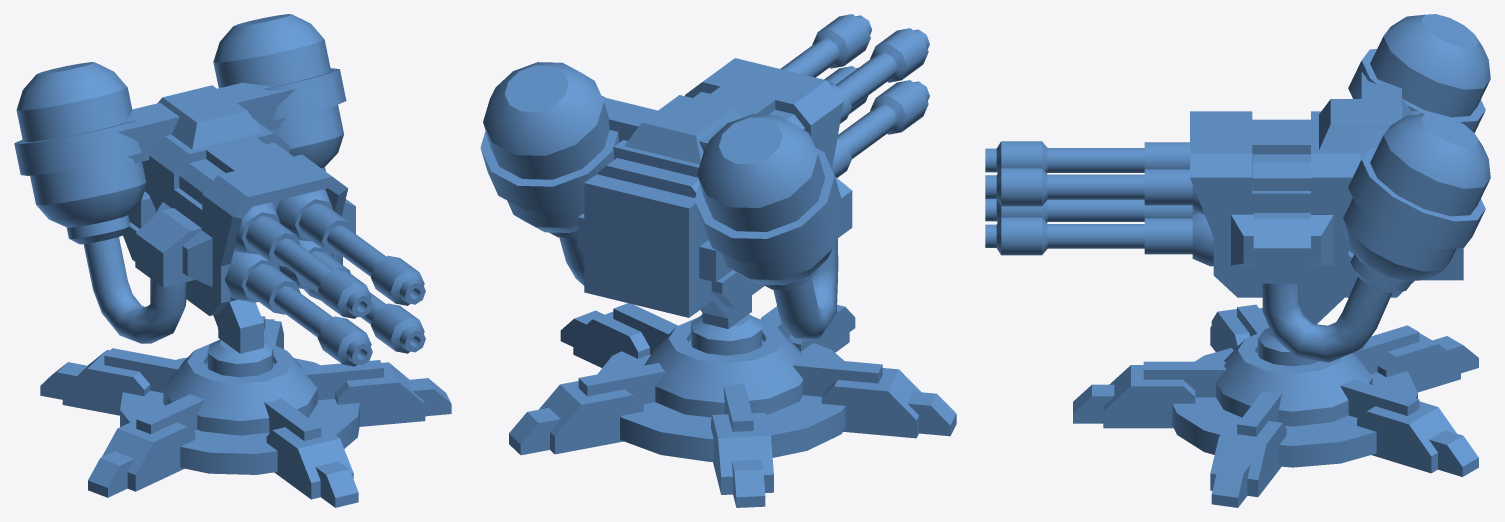
File: auto_turret_machine_gun_level_3.fbx
The picture shows the model from 3 angles, left to right: view 1: azimuth 30°, elevation 25°; view 2: azimuth 150°, elevation 25°; view 3: azimuth 270°, elevation 25°; orthographic projection. The views are drawn at different scales.
Parts seen in each view (by area): view 1: main_part, base, pivoting_arm, cannon_1, cannon_3, cannon_2, cannon_4, breech; view 2: main_part, base, cannon_1, cannon_3, pivoting_arm, cannon_2; view 3: main_part, base, cannon_2, cannon_4, cannon_1, cannon_3, breech, pivoting_arm.
Boxes of the visible parts, left/top/right/bottom form: main_part: left=14, top=14, right=355, bottom=343; base: left=40, top=316, right=451, bottom=507; pivoting_arm: left=207, top=300, right=273, bottom=377; cannon_1: left=274, top=238, right=372, bottom=318; cannon_3: left=274, top=286, right=372, bottom=366; cannon_2: left=327, top=225, right=425, bottom=305; cannon_4: left=361, top=292, right=425, bottom=353; breech: left=179, top=142, right=293, bottom=204; main_part: left=480, top=58, right=852, bottom=340; base: left=509, top=303, right=956, bottom=507; cannon_1: left=835, top=28, right=929, bottom=106; cannon_3: left=837, top=80, right=929, bottom=158; pivoting_arm: left=691, top=295, right=762, bottom=355; cannon_2: left=780, top=14, right=871, bottom=77; main_part: left=1144, top=14, right=1490, bottom=362; base: left=1073, top=304, right=1478, bottom=507; cannon_2: left=985, top=168, right=1144, bottom=206; cannon_4: left=985, top=217, right=1144, bottom=255; cannon_1: left=985, top=141, right=1144, bottom=173; cannon_3: left=985, top=199, right=1144, bottom=222; breech: left=1252, top=154, right=1310, bottom=190; pivoting_arm: left=1258, top=297, right=1344, bottom=366.
Size of the model in its own units: 235 by 211 by 278.
